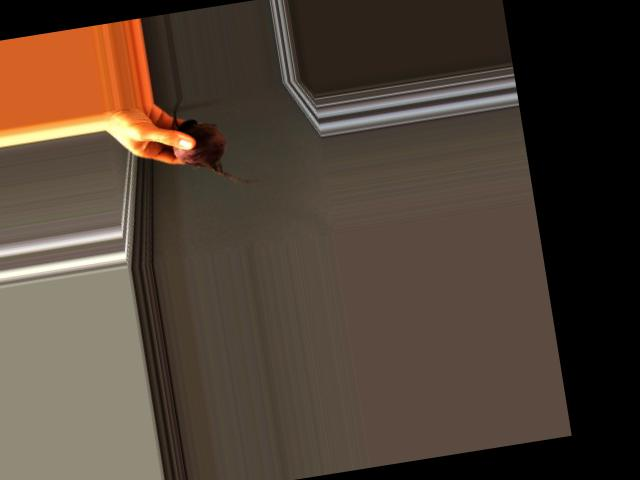beet: (166, 88, 259, 193)
